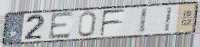0: (77, 10, 98, 38)
2: (23, 13, 48, 43)
E: (47, 10, 75, 41)
F: (99, 8, 127, 38)
I: (137, 7, 150, 35), (164, 6, 175, 33)
